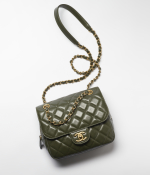channel: (27, 82, 122, 157), (79, 101, 107, 128), (39, 91, 57, 127), (72, 127, 87, 144)
